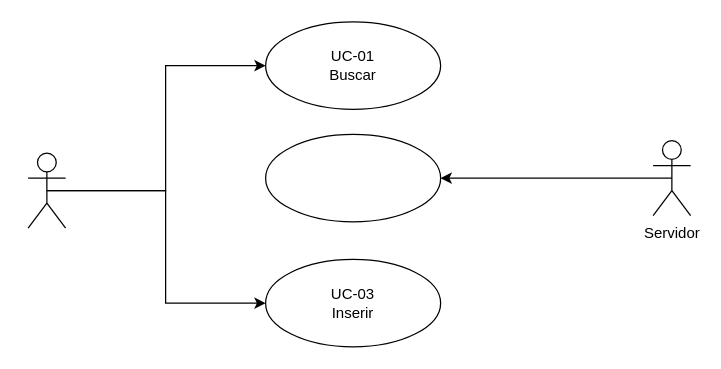
The diagram is 721 pixels wide and 369 high, and some of its shapes have lost their labels. Each missing label, with the centre of its shape:
UC-02 Solicitar: the point at 352,177
Usuário: the point at 46,190
